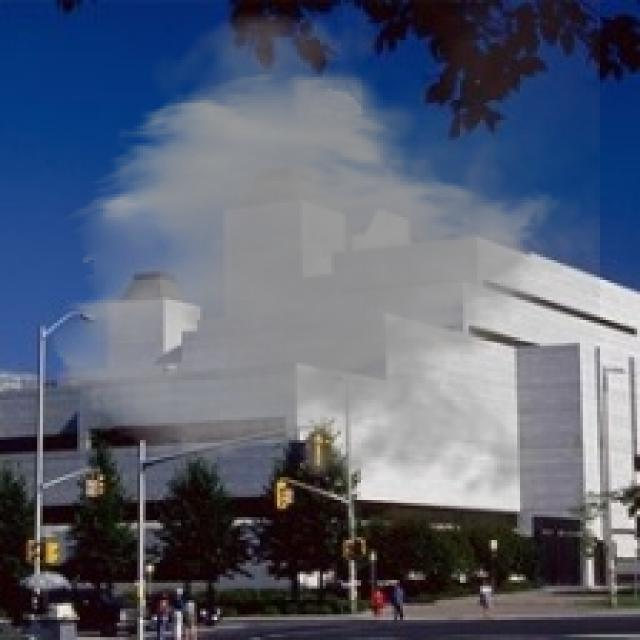smoke: (48, 0, 601, 515)
